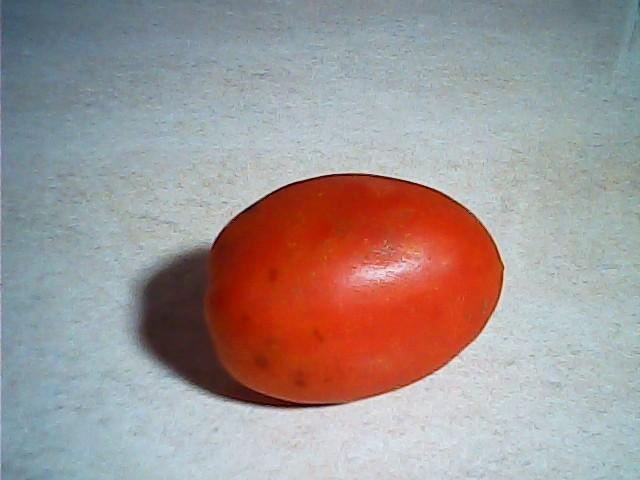maduro: (202, 170, 508, 408)
